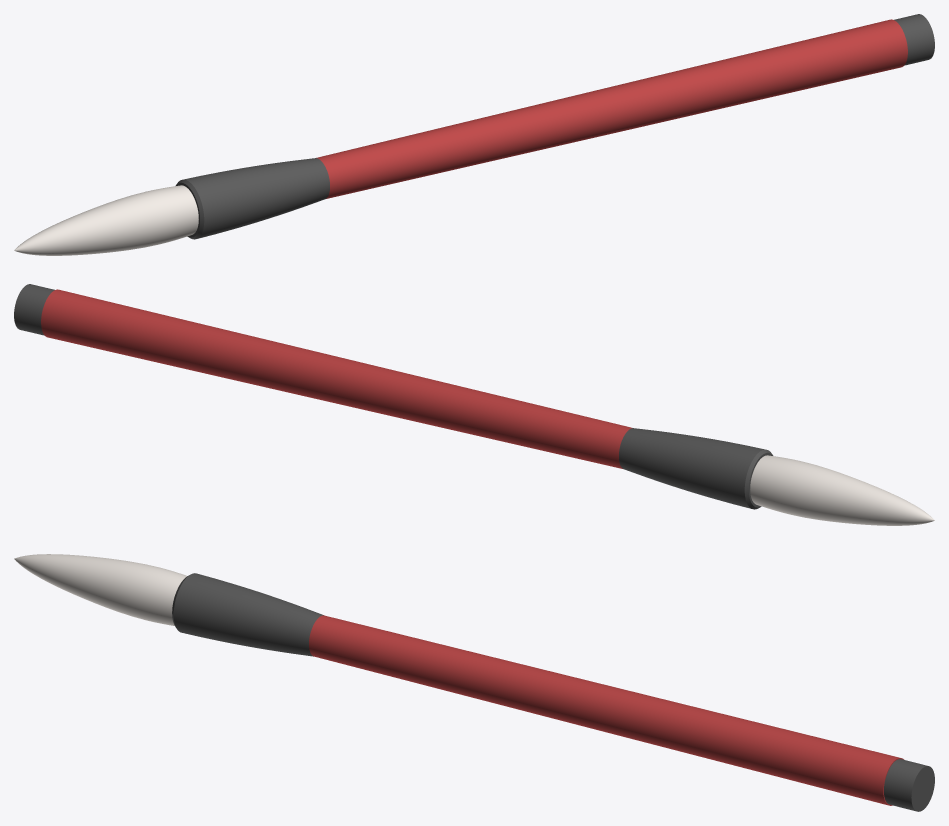
File: 268_書道筆太.glb
The picture shows the model from 3 angles, top to bottom: view 1: azimuth 30°, elevation 25°; view 2: azimuth 150°, elevation 25°; view 3: azimuth 330°, elevation 25°; orthographic projection.
Visible parts, largest first — view 1: Body; view 2: Body; view 3: Body.
Part boxes in pixels (x1,y1,x2,y2): Body: (14,14,934,255); Body: (14,284,934,525); Body: (14,554,934,811).
Size of the model in its own units: 0.247 by 0.0147 by 0.0144.
